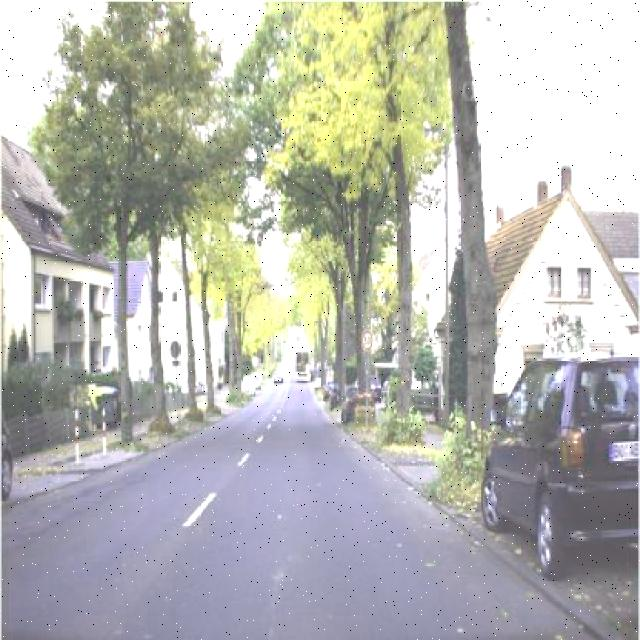Ograniczenie predkosci do 50: (361, 328, 373, 354)
